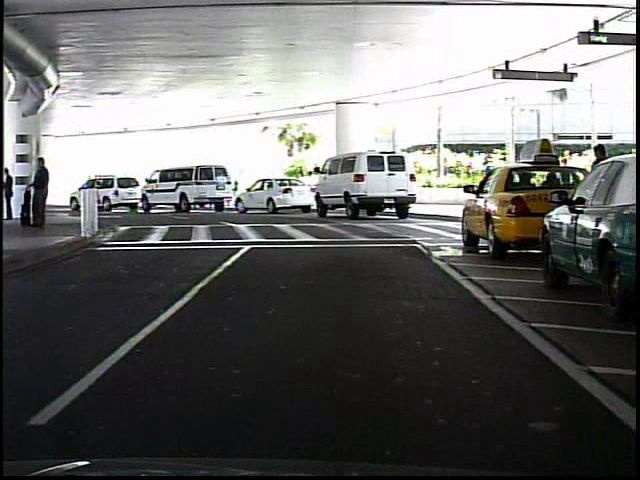person: (587, 142, 617, 247), (34, 153, 53, 230), (1, 161, 22, 224)
